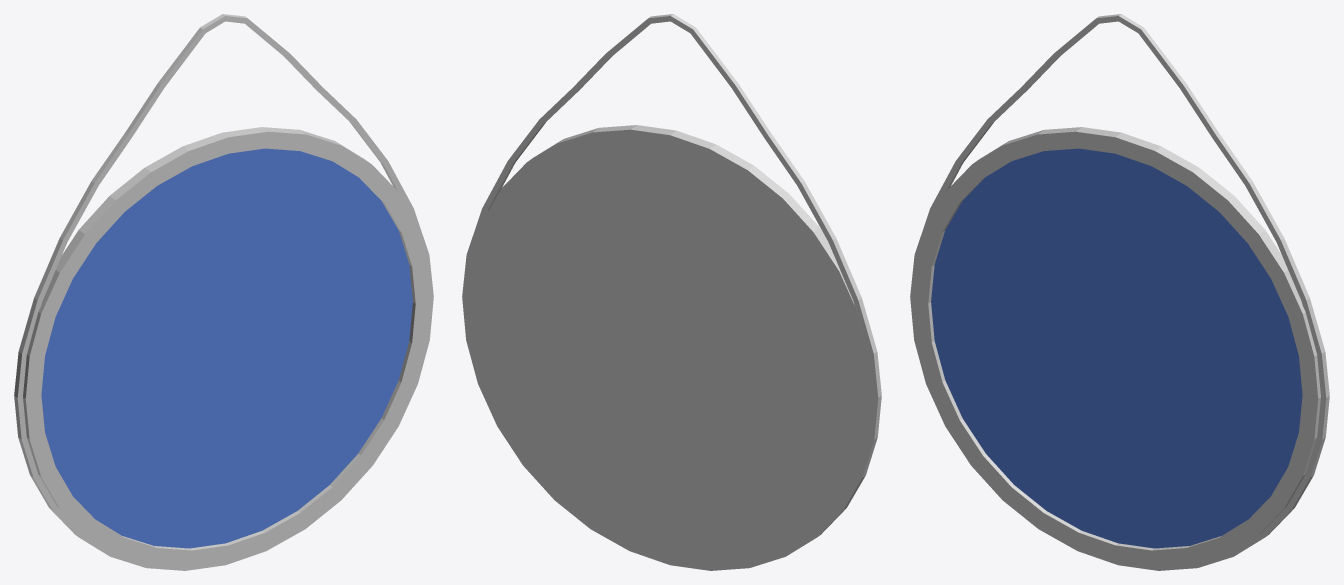
The model's file is Espelho.fbx.
The picture shows the model from 3 angles, left to right: view 1: azimuth 30°, elevation 25°; view 2: azimuth 150°, elevation 25°; view 3: azimuth 330°, elevation 25°; orthographic projection.
Visible parts, largest first — view 1: Circle.001; view 2: Circle.001; view 3: Circle.001.
Boxes of the visible parts, x1,y1,x2,y2 form: Circle.001: (14,14,433,570); Circle.001: (462,14,881,570); Circle.001: (910,14,1329,570).
Bounding box in the file's own units: 335 × 422 × 8.87.
